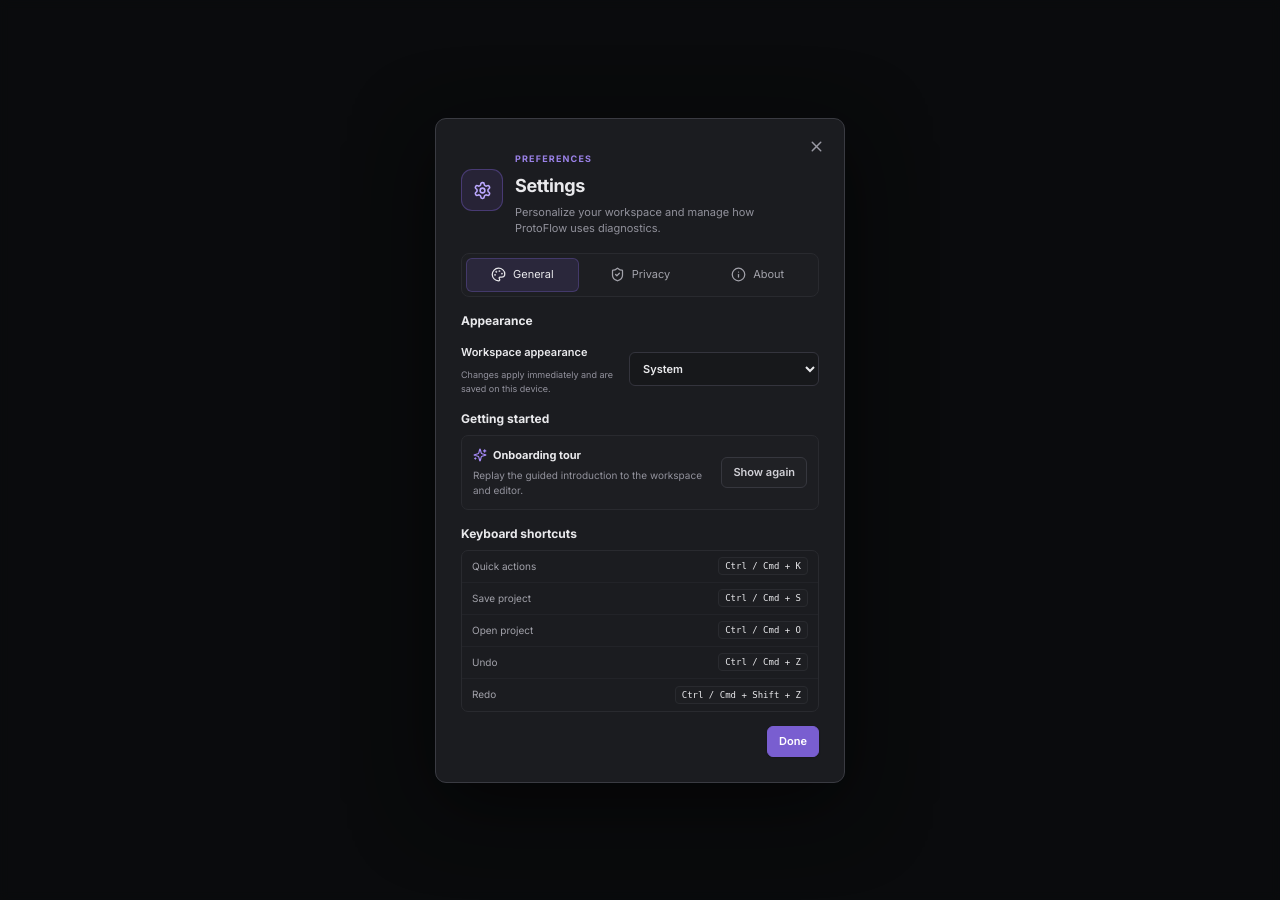
it: Settings dialog navigation and accessibility › opens Privacy and retains the existing consent and diagnostics controls
The width and height of the screenshot is (1280, 900).
What coordinates should you click on to do the following:
click the button "Privacy"
I would click on:
 (640, 274)
Its box is [584,258,696,292].
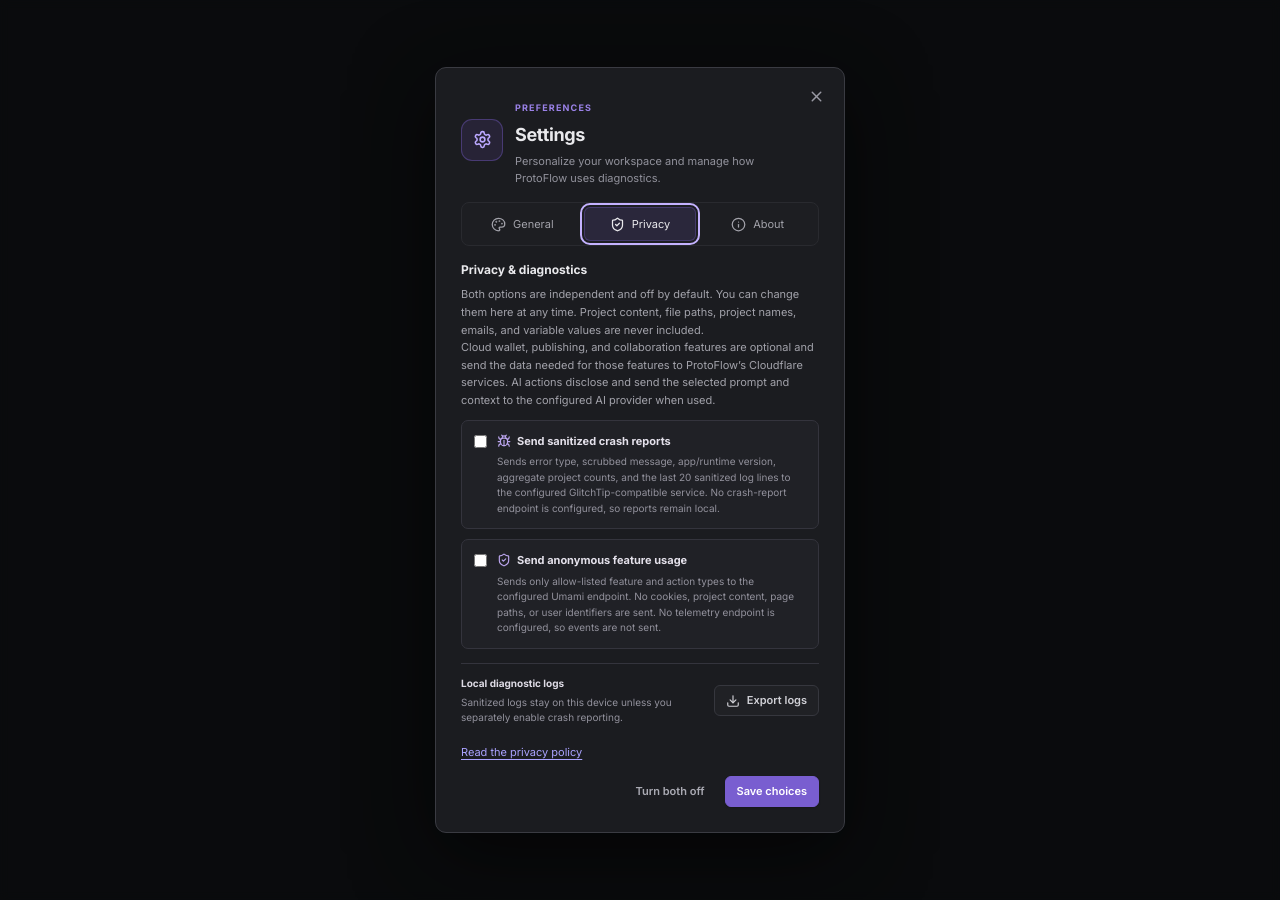
Expected: the heading "Privacy & diagnostics" is shown, [461,262,587,277]
Expected: the checkbox labelled "Send sanitized crash reports" is not checked, [474,435,487,448]
Expected: the checkbox labelled "Send anonymous feature usage" is not checked, [474,554,487,567]
